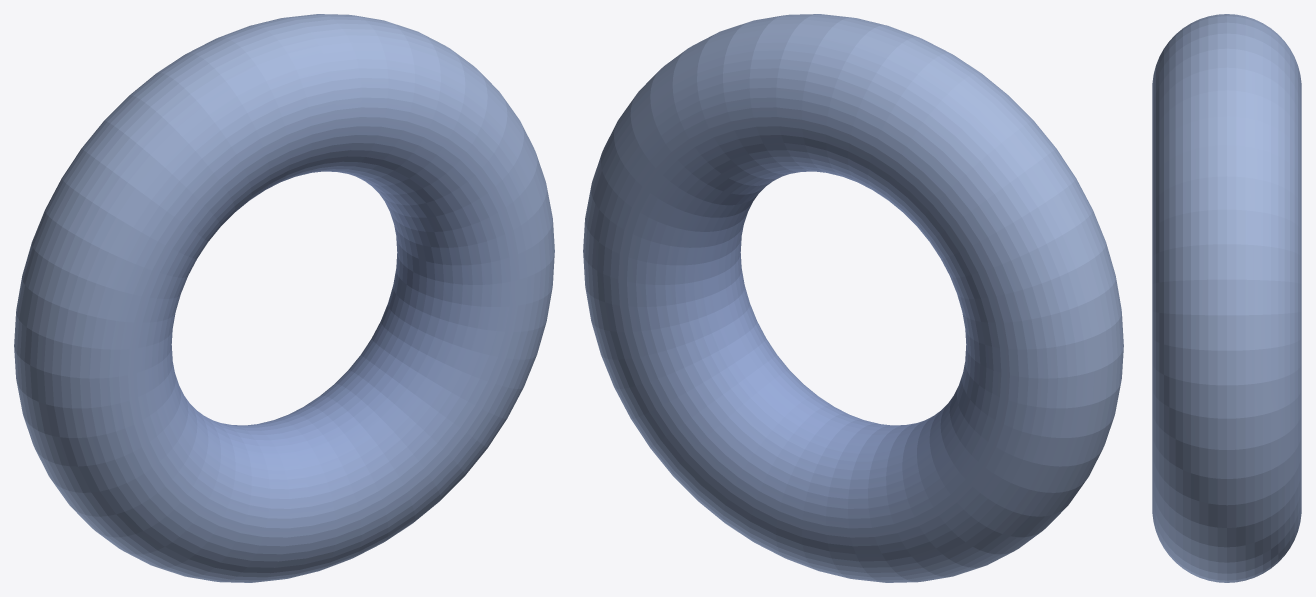
3 views of the same model, side by side, from view 1: azimuth 30°, elevation 25°; view 2: azimuth 150°, elevation 25°; view 3: azimuth 270°, elevation 25° (orthographic). The views are drawn at different scales.
Parts seen in each view (by area): view 1: world; view 2: world; view 3: world.
Boxes of the visible parts, box(x1,y1,x2,y2) form: world: box(14, 14, 554, 582); world: box(583, 14, 1123, 582); world: box(1152, 14, 1301, 582).
Bounding box in the file's own units: 20.8 × 20.76 × 5.46.
